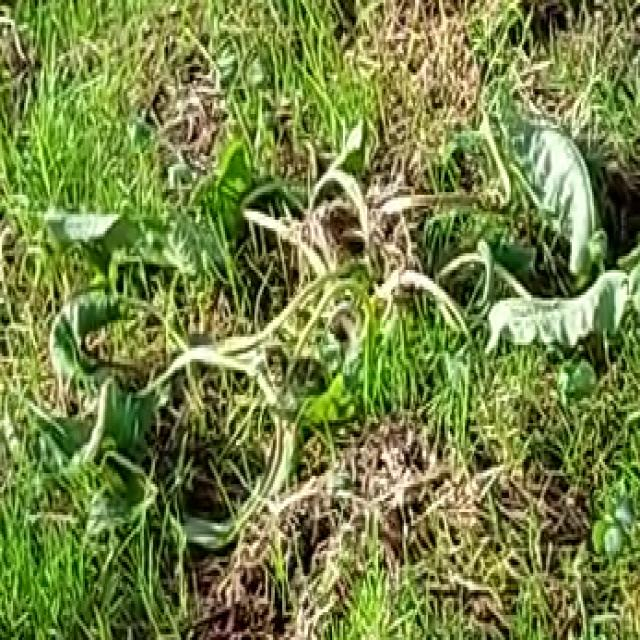organic waste: (24, 84, 631, 537)
